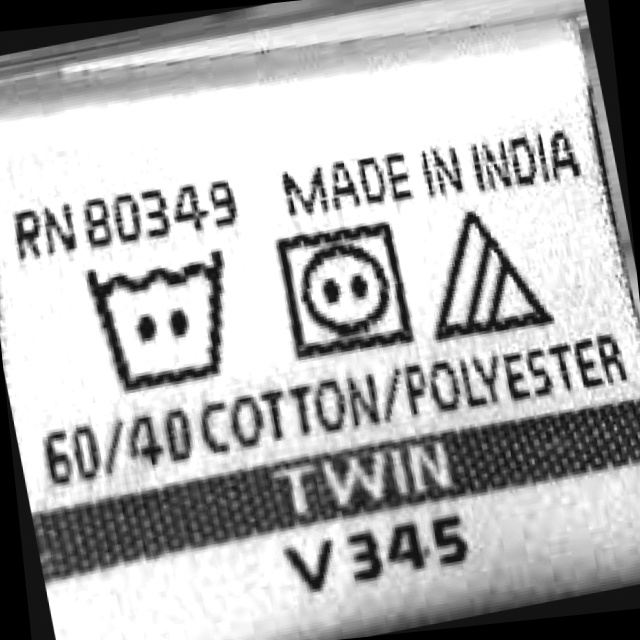40C: (71, 234, 256, 408)
non_chlorine_bleach: (405, 196, 561, 355)
tumble_dry_medium: (263, 209, 424, 369)
